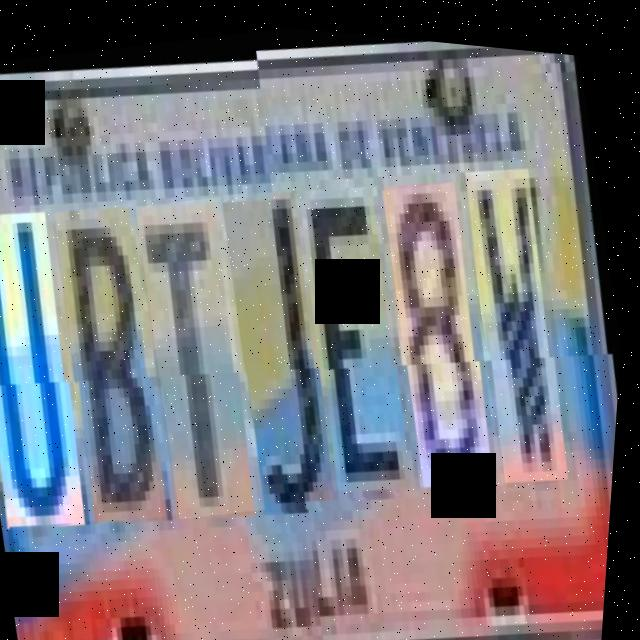8: (369, 165, 526, 490)
B: (40, 194, 201, 529)
E: (287, 173, 445, 497)
J: (209, 179, 370, 514)
T: (122, 186, 288, 522)
U: (0, 202, 118, 537)
W: (450, 151, 599, 481)
